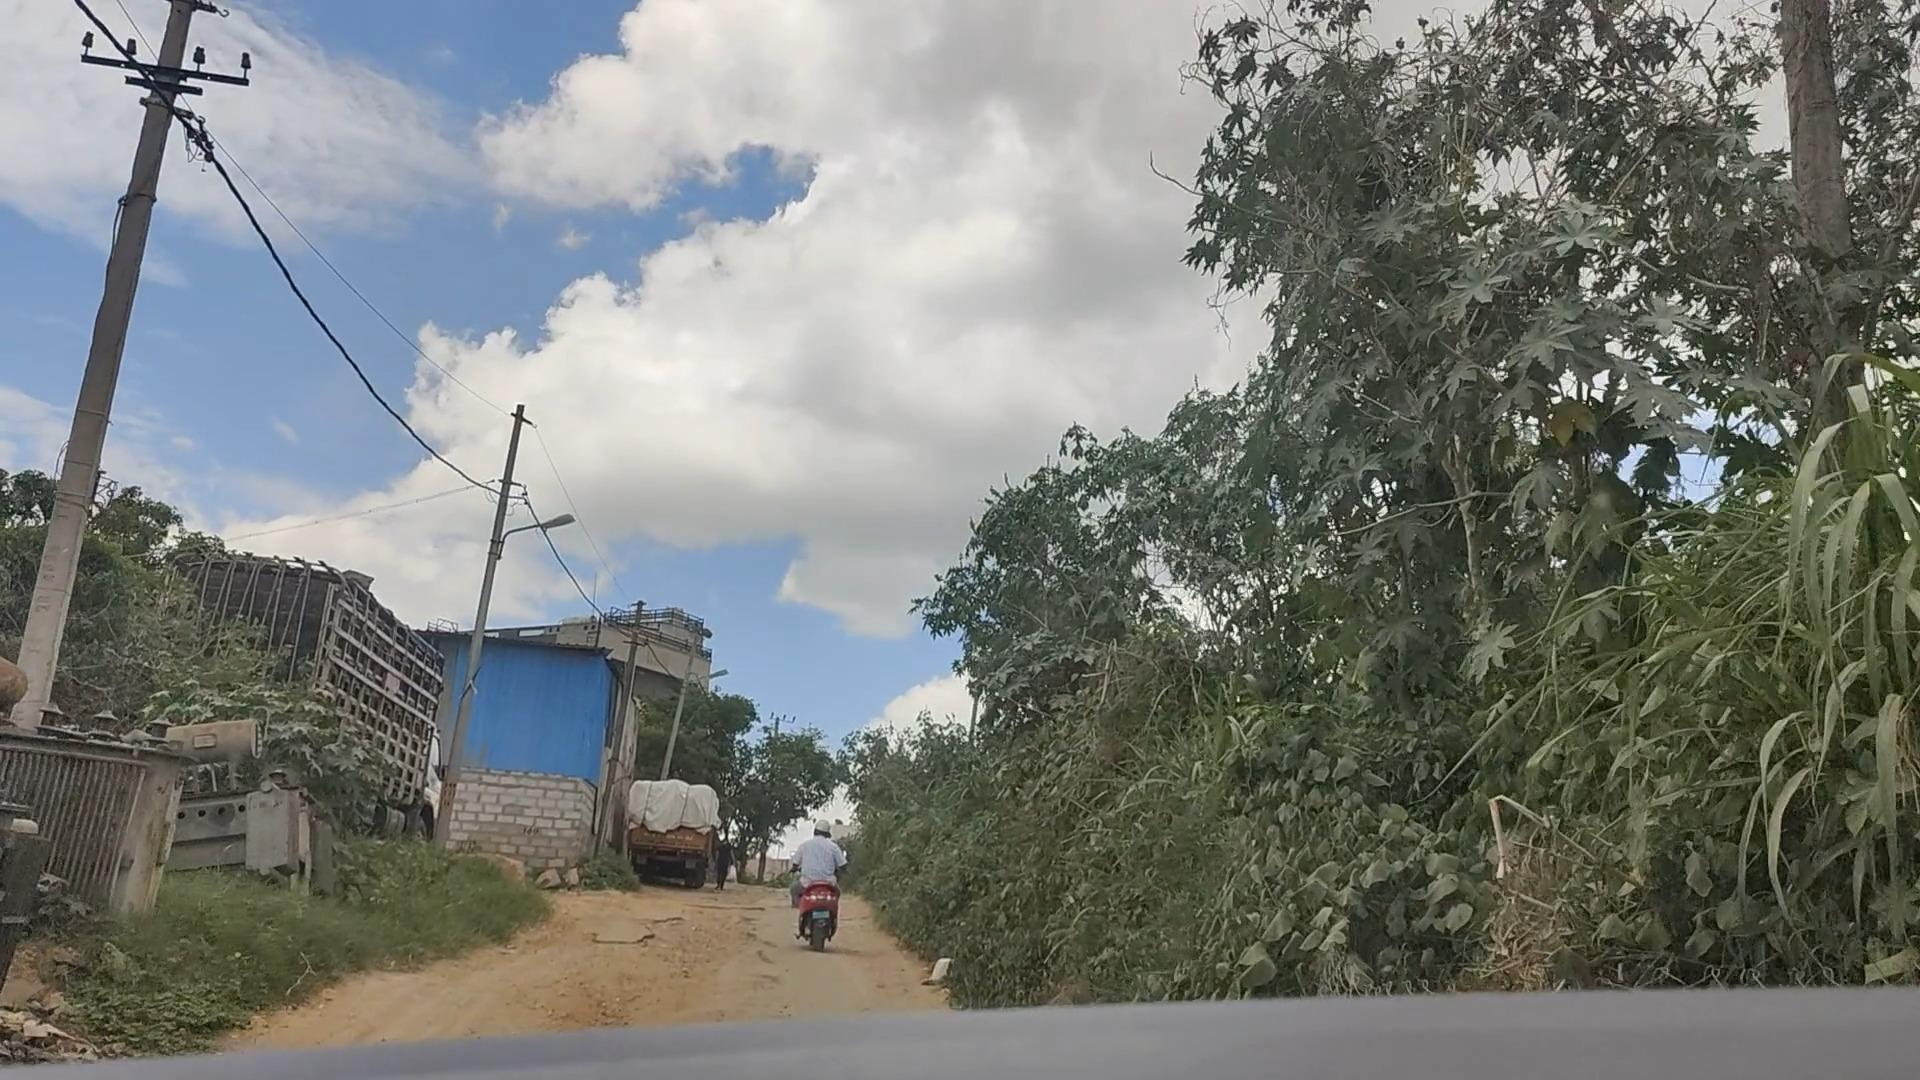HMV: (613, 774, 724, 905)
UnsurfacedRoad: (506, 911, 777, 1006)
